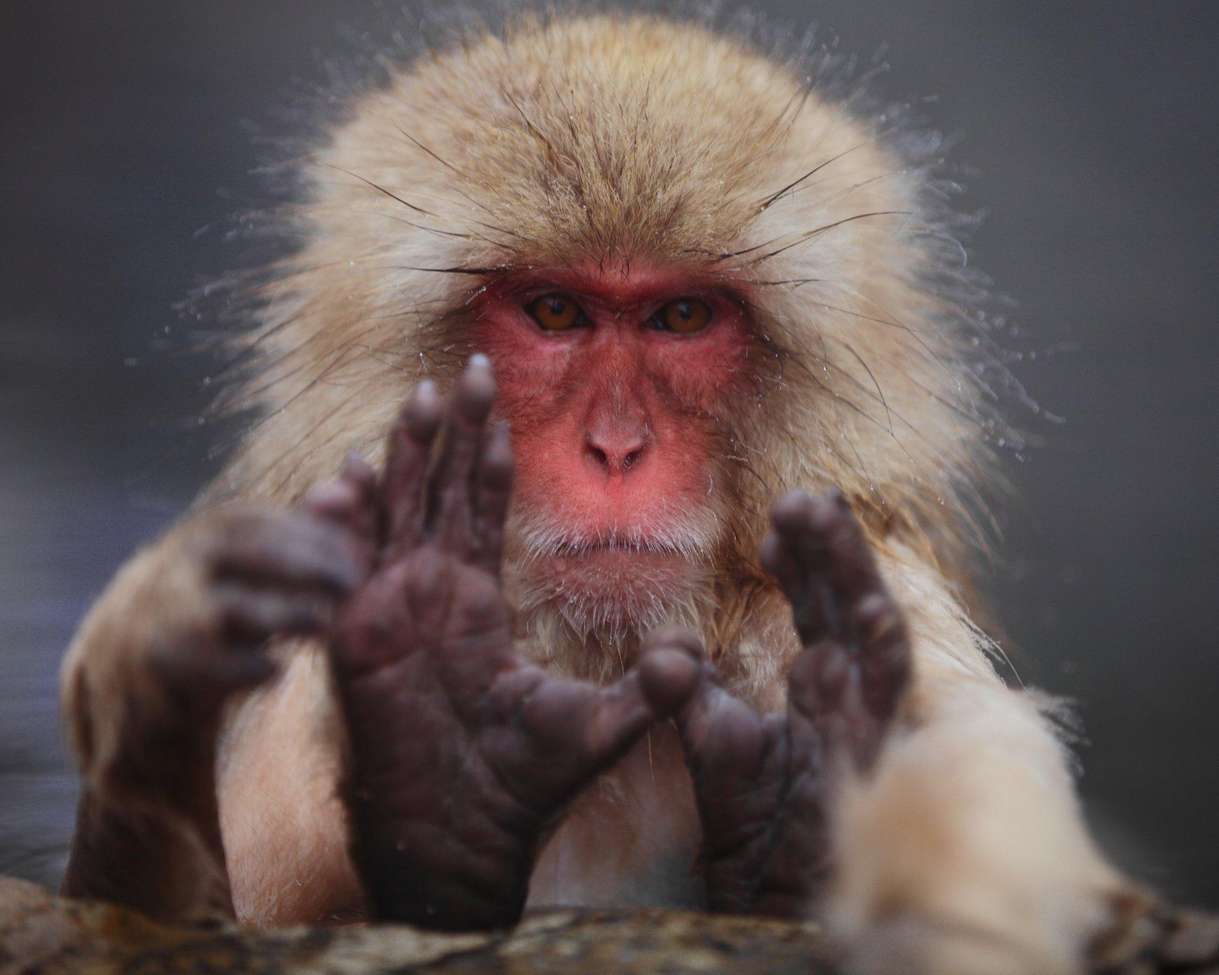monkey: (57, 13, 1219, 975)
